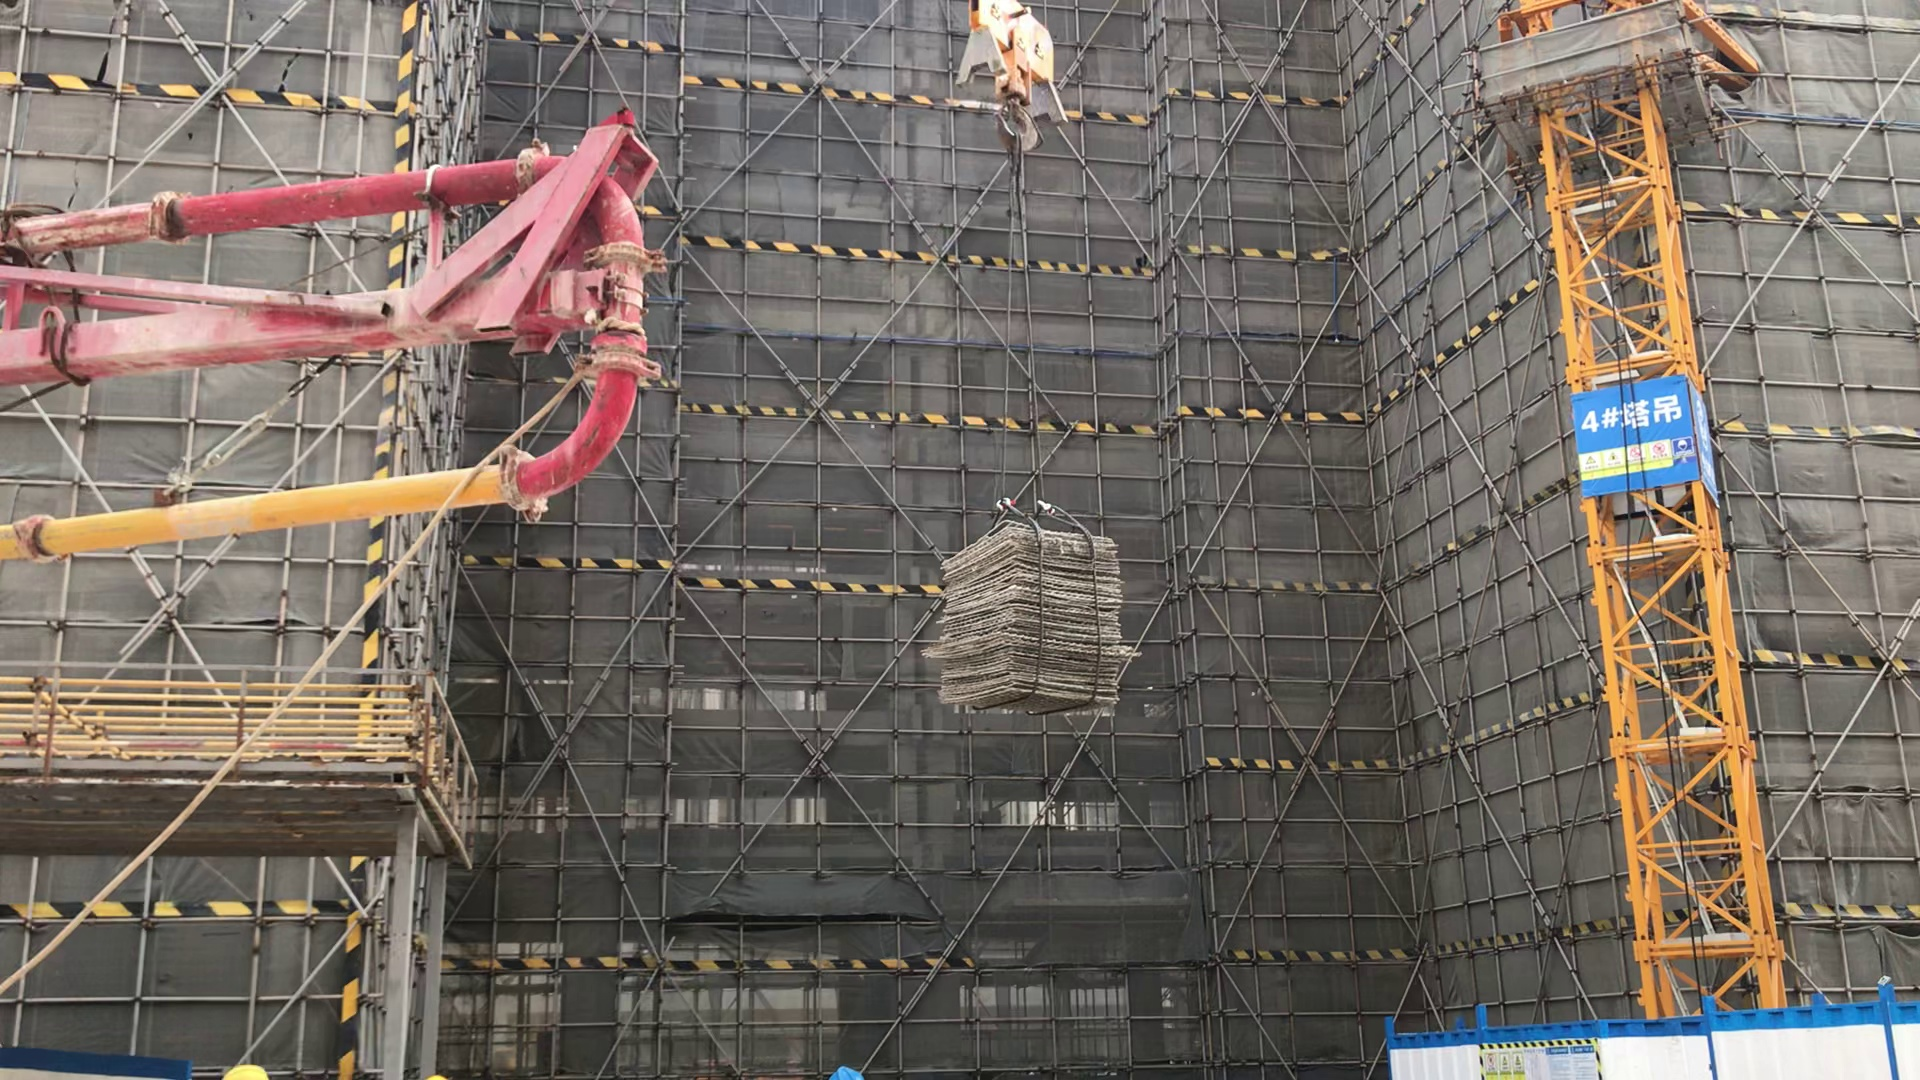helmet: (222, 1062, 269, 1080), (825, 1068, 866, 1080)
hook: (956, 4, 1071, 167)
slogan: (1577, 398, 1695, 471), (1477, 1044, 1597, 1080)
